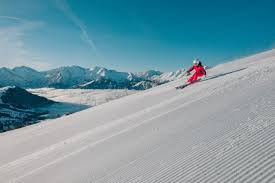skis: (174, 80, 202, 93)
